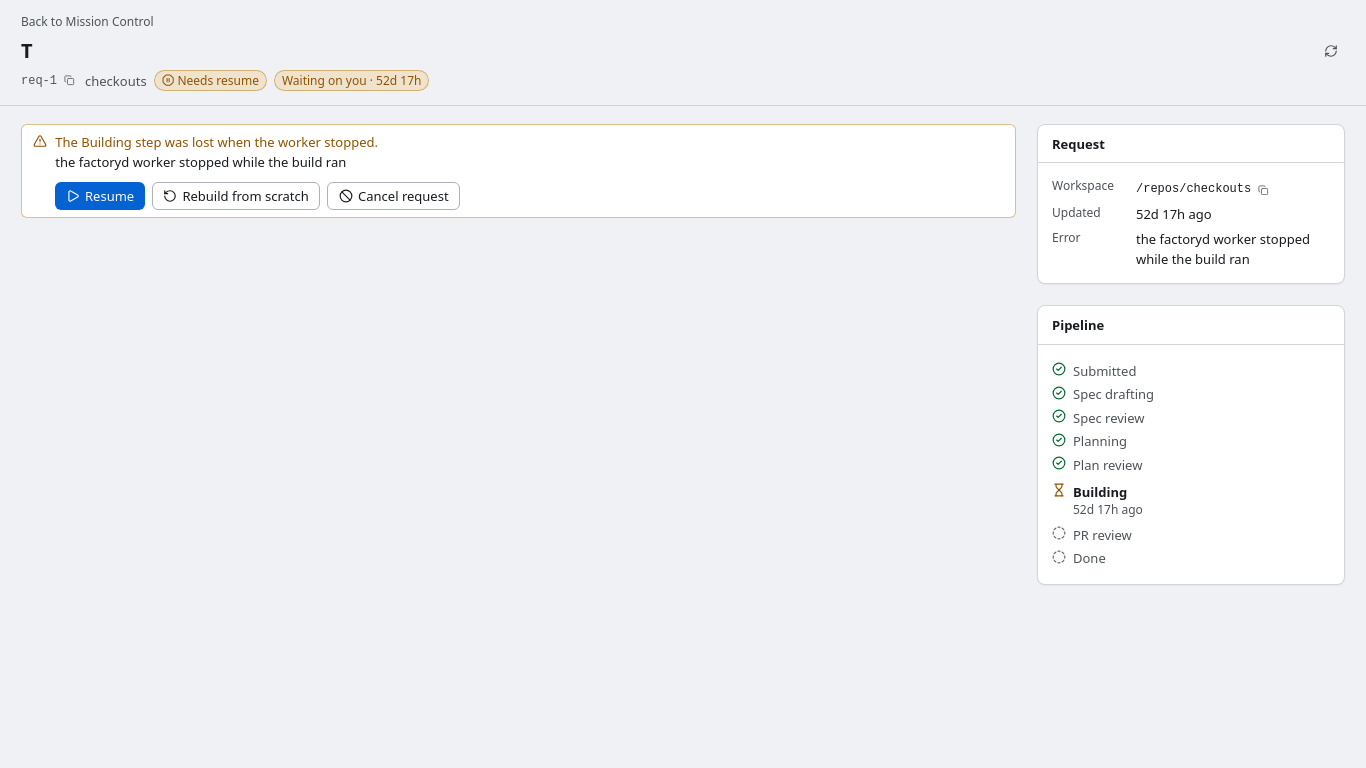
Test: resume_review › backing out of the confirmation sends nothing
Click the button "Resume" at (100, 196), box [55,182,145,210]
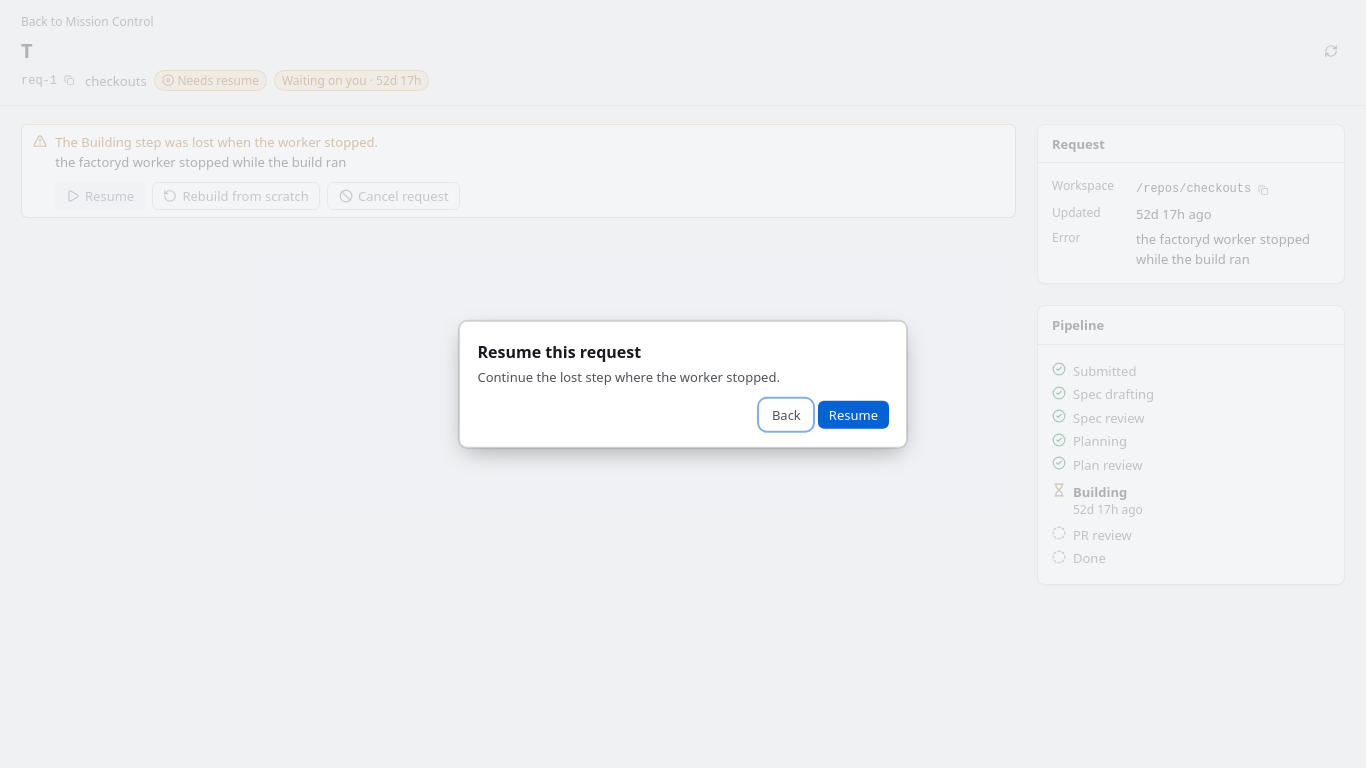
Click the button "Back" at (786, 415), box [761,401,811,429]
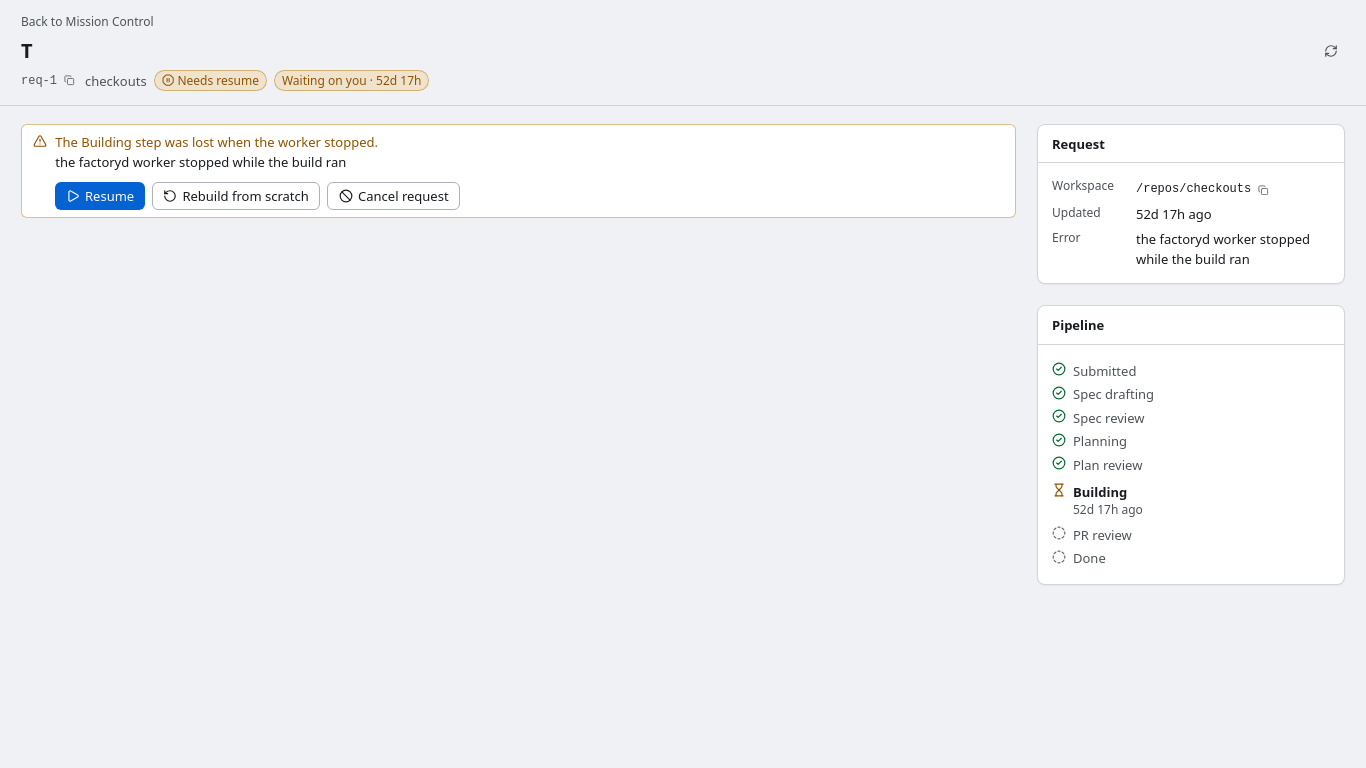
Check: the message with test id "resume-callout" is shown, box [21,124,1016,218]
Check: the dialog is gone
